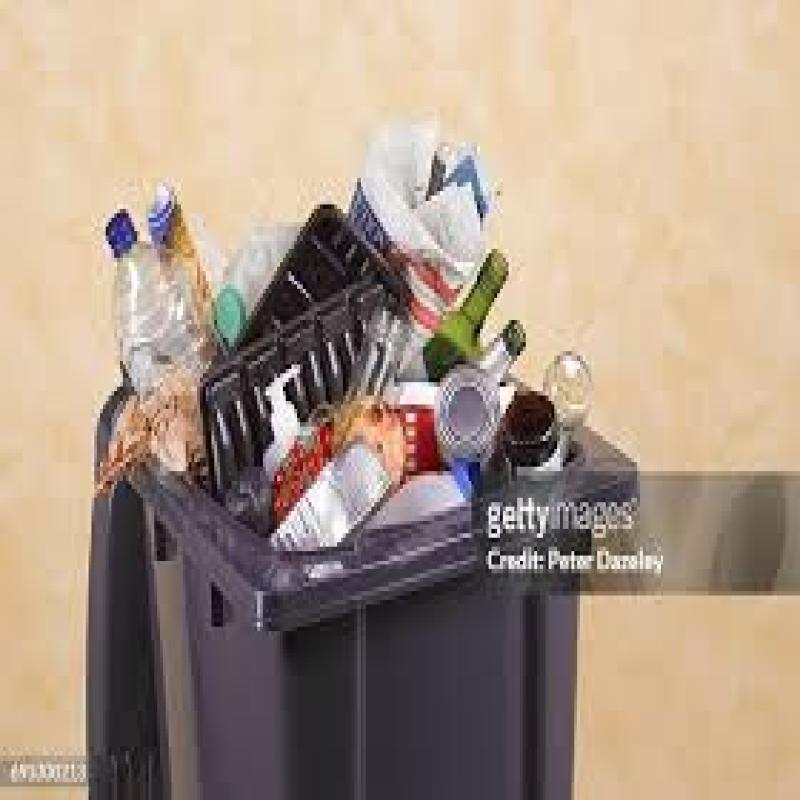botella: (99, 209, 221, 421)
